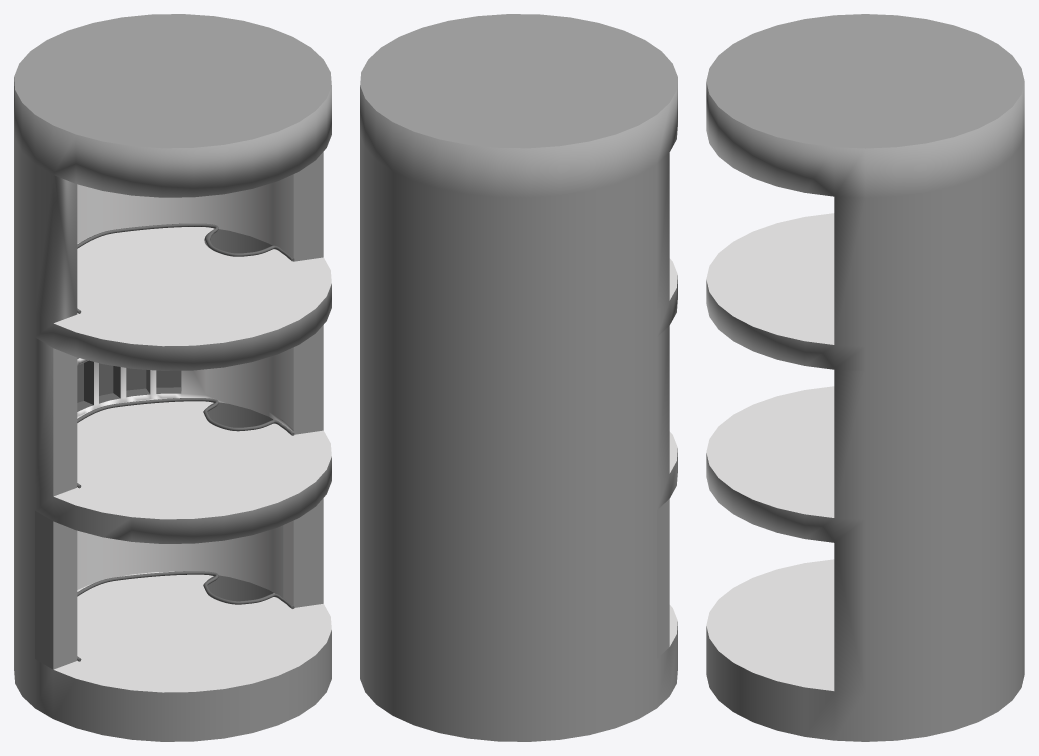
Rendered from -Rocket-.fbx.
The picture shows the model from 3 angles, left to right: view 1: azimuth 30°, elevation 25°; view 2: azimuth 150°, elevation 25°; view 3: azimuth 270°, elevation 25°; orthographic projection.
Visible parts, largest first — view 1: Rocket.Hull, Rocket.First_Floor, Rocket.Second_Floor, Rocket.Third_Floor; view 2: Rocket.Hull; view 3: Rocket.Hull, Rocket.First_Floor, Rocket.Second_Floor, Rocket.Third_Floor.
Part boxes in pixels (bbox=[...]): Rocket.Hull: bbox=[14, 14, 331, 741]; Rocket.First_Floor: bbox=[54, 174, 331, 346]; Rocket.Second_Floor: bbox=[54, 347, 331, 519]; Rocket.Third_Floor: bbox=[54, 520, 331, 692]; Rocket.Hull: bbox=[360, 14, 677, 741]; Rocket.Hull: bbox=[706, 14, 1024, 741]; Rocket.First_Floor: bbox=[706, 213, 834, 344]; Rocket.Second_Floor: bbox=[706, 386, 834, 517]; Rocket.Third_Floor: bbox=[706, 559, 834, 690].
Bounding box in the file's own units: 875 × 1800 × 875.
